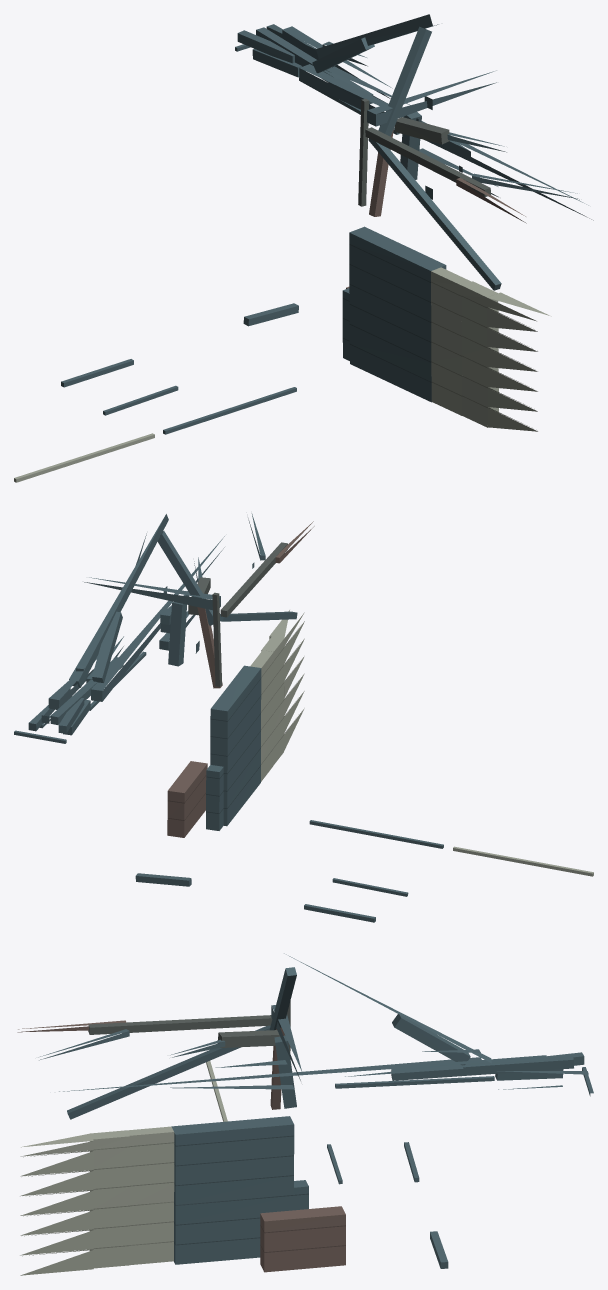
Rendered from terminal-28---126_-20.glb.
The picture shows the model from 3 angles, top to bottom: view 1: azimuth 30°, elevation 25°; view 2: azimuth 150°, elevation 25°; view 3: azimuth 270°, elevation 25°; orthographic projection. The views are drawn at different scales.
Visible parts, largest first — view 1: measured-industrial; view 2: measured-industrial; view 3: measured-industrial.
Boxes of the visible parts, box(x1,y1,x2,y2) form: measured-industrial: box(14, 14, 593, 482); measured-industrial: box(14, 513, 593, 922); measured-industrial: box(17, 953, 593, 1275).
Size of the model in its own units: 80.2 by 49.8 by 76.61.
